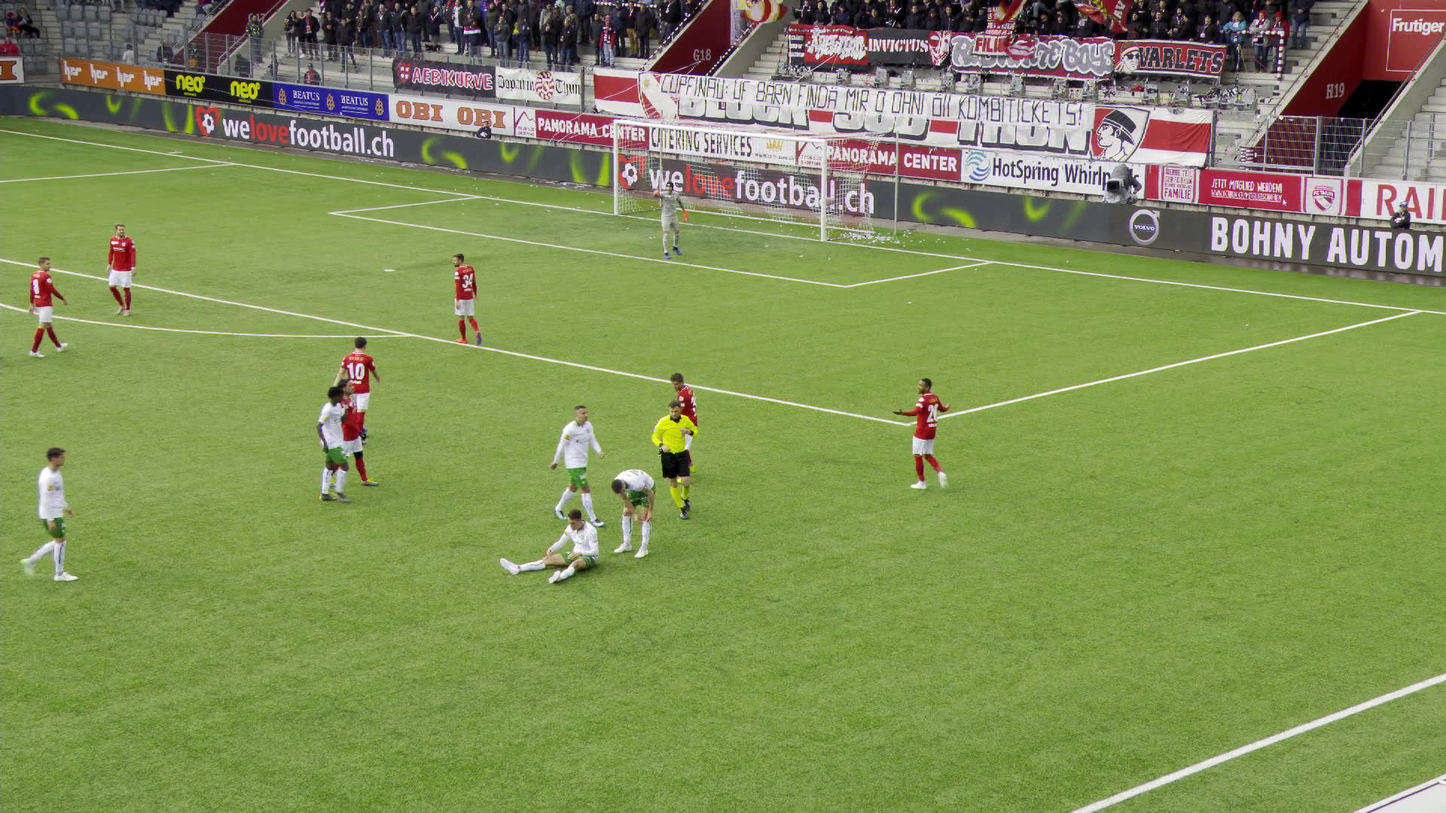player: (18, 444, 79, 581), (499, 508, 598, 581), (548, 402, 604, 525), (892, 376, 950, 491), (300, 389, 356, 501), (320, 377, 377, 486), (334, 334, 378, 440), (607, 469, 655, 559), (26, 257, 68, 356), (669, 376, 702, 485), (105, 224, 136, 315), (453, 254, 483, 346), (654, 181, 690, 257)
referee: (651, 395, 697, 516)
